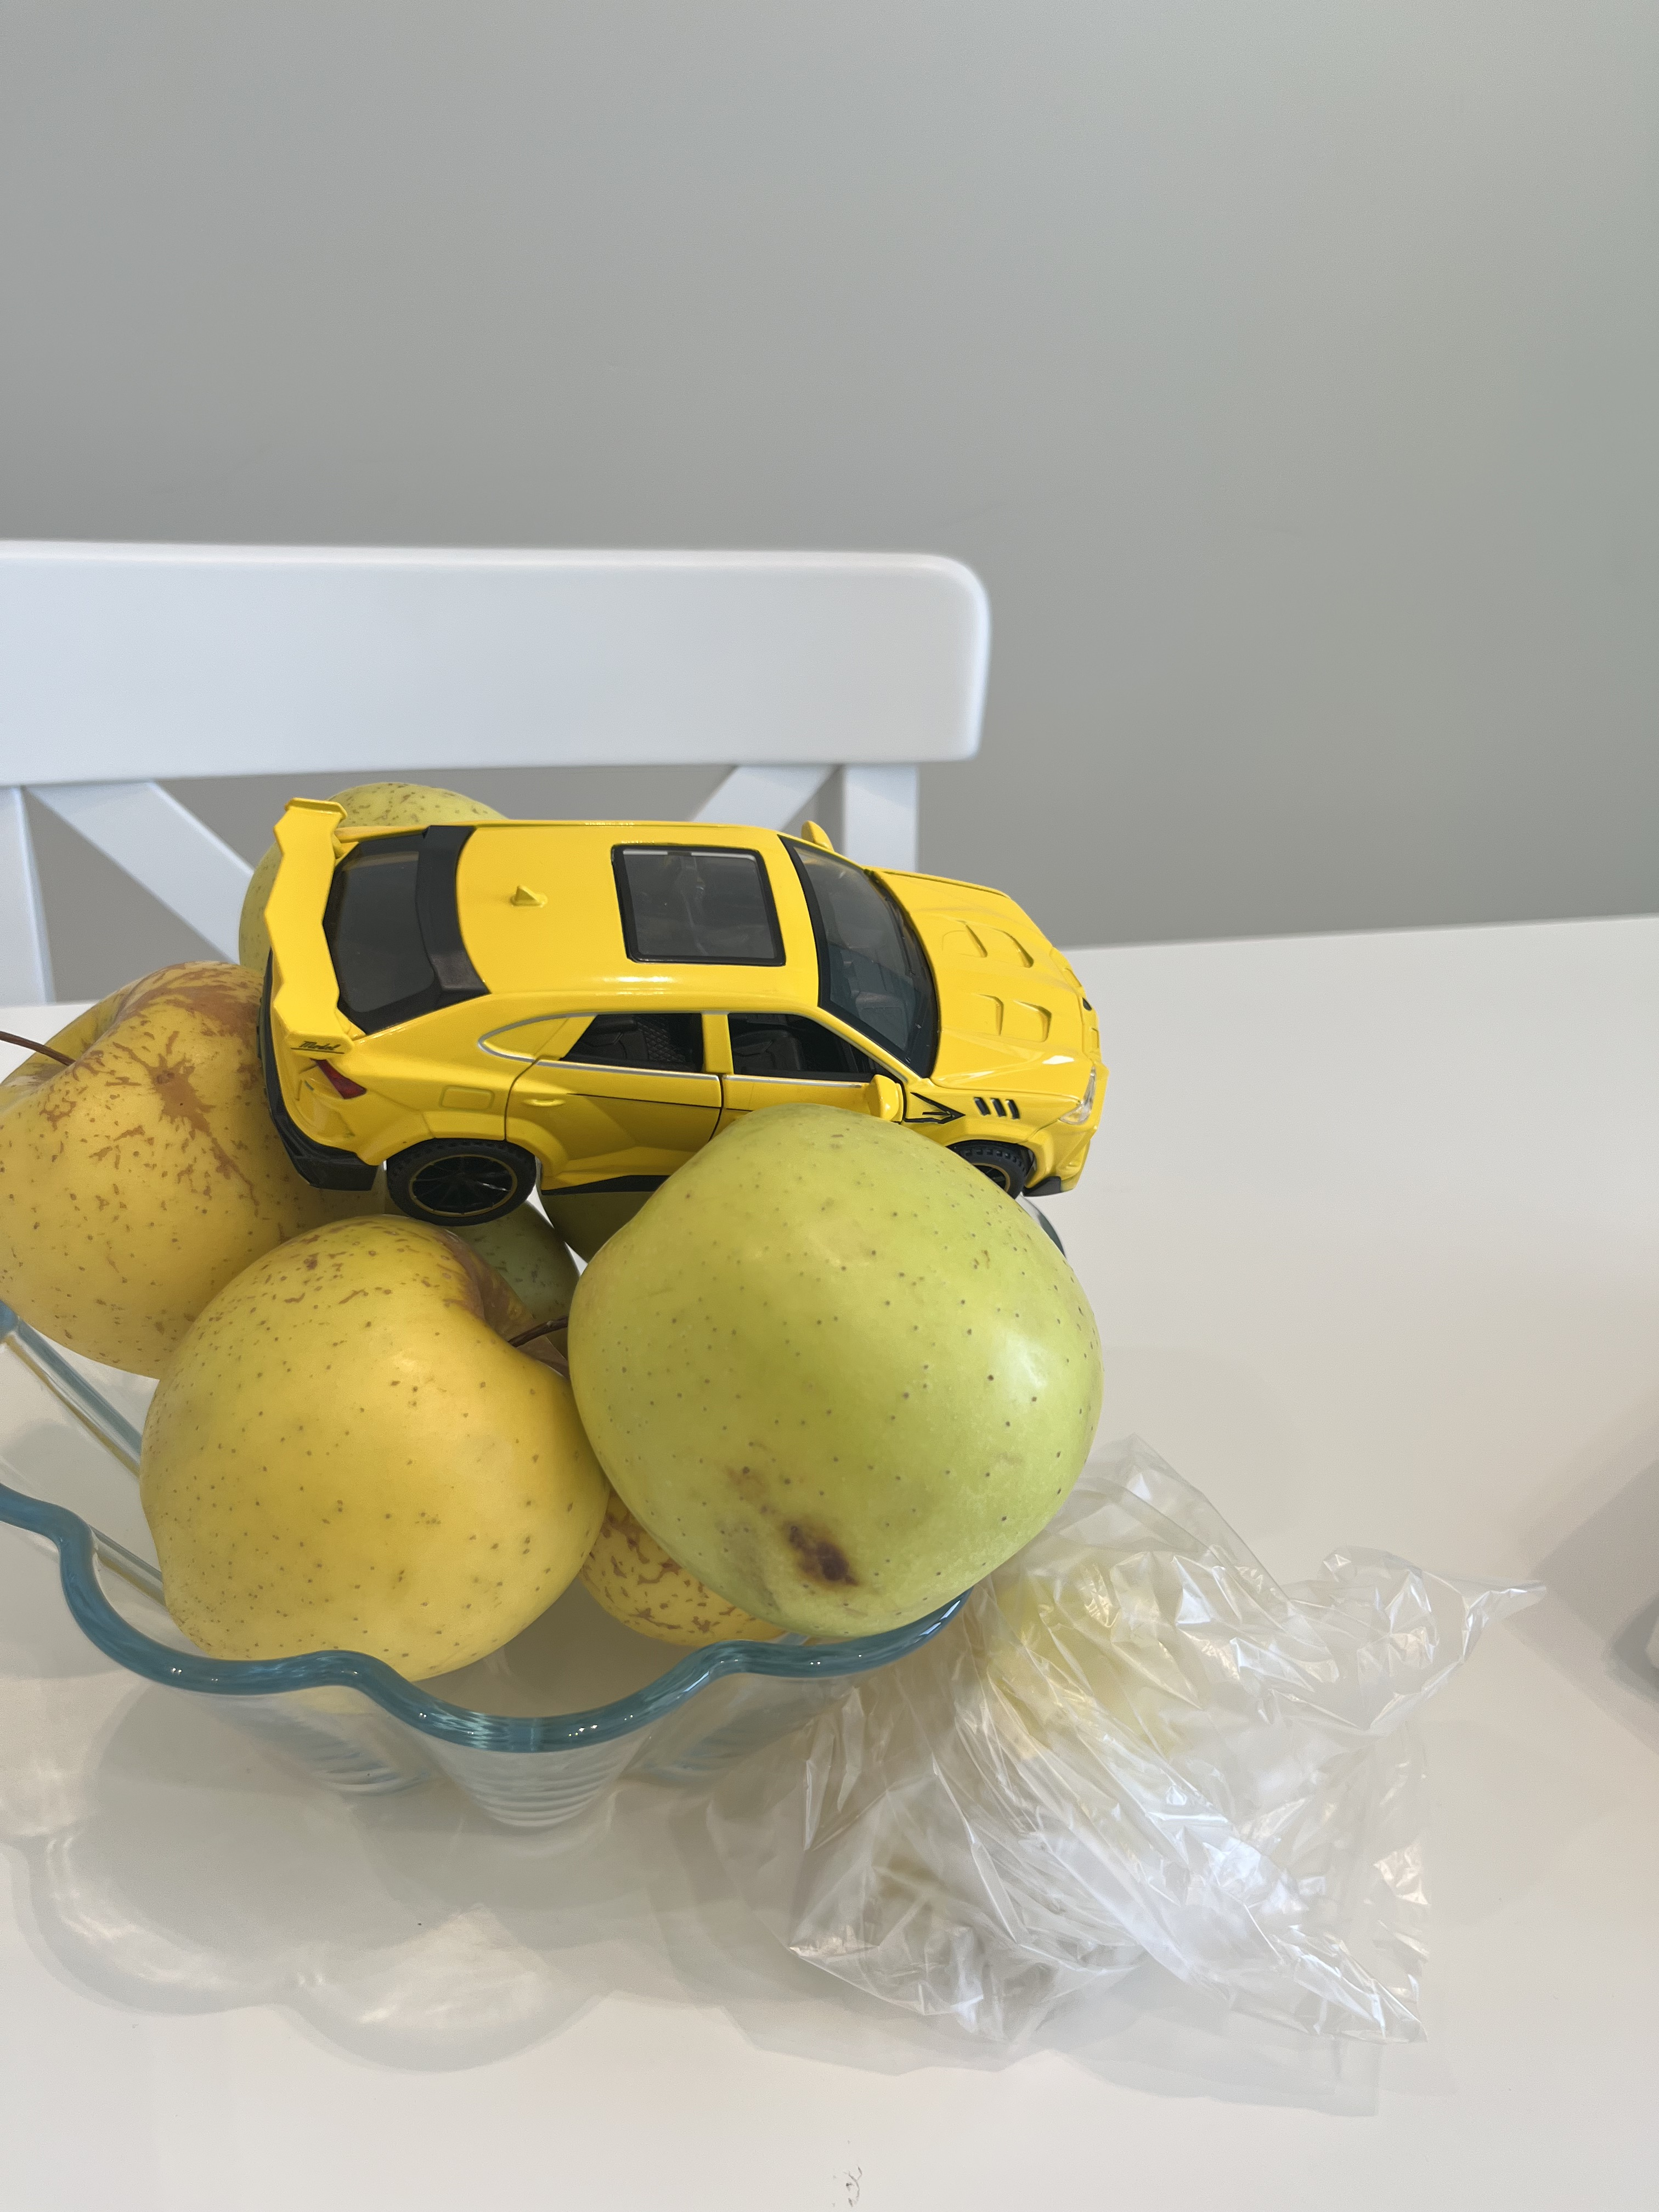lambo: (244, 765, 1133, 1214)
